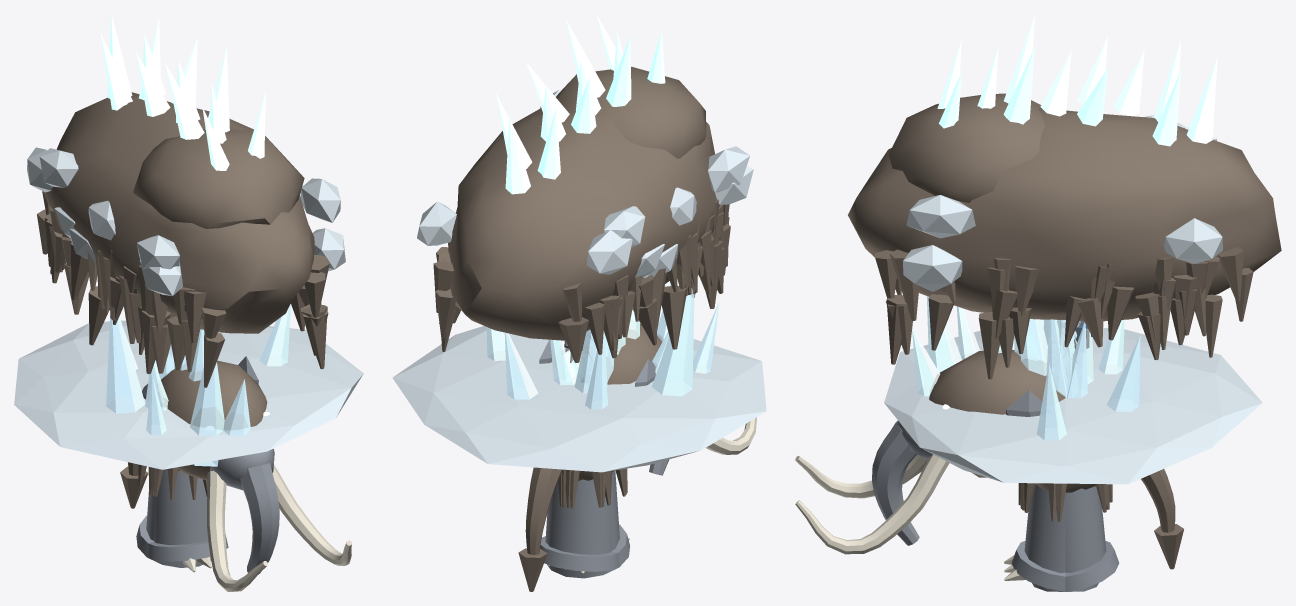
File: polarzombie.glb
The picture shows the model from 3 angles, left to right: view 1: azimuth 30°, elevation 25°; view 2: azimuth 150°, elevation 25°; view 3: azimuth 270°, elevation 25°; orthographic projection. The views are drawn at different scales.
Visible parts, largest first — view 1: ancient_body, ice_spikes, ancient_head, ancient_crystals, ancient_leg_front, ancient_leg_back, ancient_tail; view 2: ancient_body, ice_spikes, ancient_crystals, ancient_leg_back, ancient_head, ancient_tail, ancient_leg_front; view 3: ancient_body, ice_spikes, ancient_head, ancient_crystals, ancient_leg_front, ancient_leg_back, ancient_tail.
Boxes of the visible parts, x1,y1,x2,y2 form: ancient_body: [27, 92, 345, 387]; ice_spikes: [14, 304, 363, 469]; ancient_head: [142, 356, 351, 591]; ancient_crystals: [100, 14, 265, 170]; ancient_leg_front: [138, 465, 228, 572]; ancient_leg_back: [136, 464, 211, 567]; ancient_tail: [120, 462, 148, 508]; ancient_body: [417, 66, 753, 362]; ice_spikes: [392, 279, 766, 472]; ancient_crystals: [496, 15, 665, 194]; ancient_leg_back: [540, 468, 626, 574]; ancient_head: [539, 323, 756, 475]; ancient_tail: [518, 467, 562, 591]; ancient_leg_front: [547, 468, 629, 578]; ancient_body: [848, 93, 1281, 379]; ice_spikes: [884, 296, 1262, 484]; ancient_head: [795, 350, 1065, 554]; ancient_crystals: [937, 14, 1217, 146]; ancient_leg_front: [1004, 483, 1098, 591]; ancient_leg_back: [1032, 483, 1119, 591]; ancient_tail: [1141, 469, 1183, 569].
Size of the model in its own units: 6.22 by 9.93 by 7.98.
